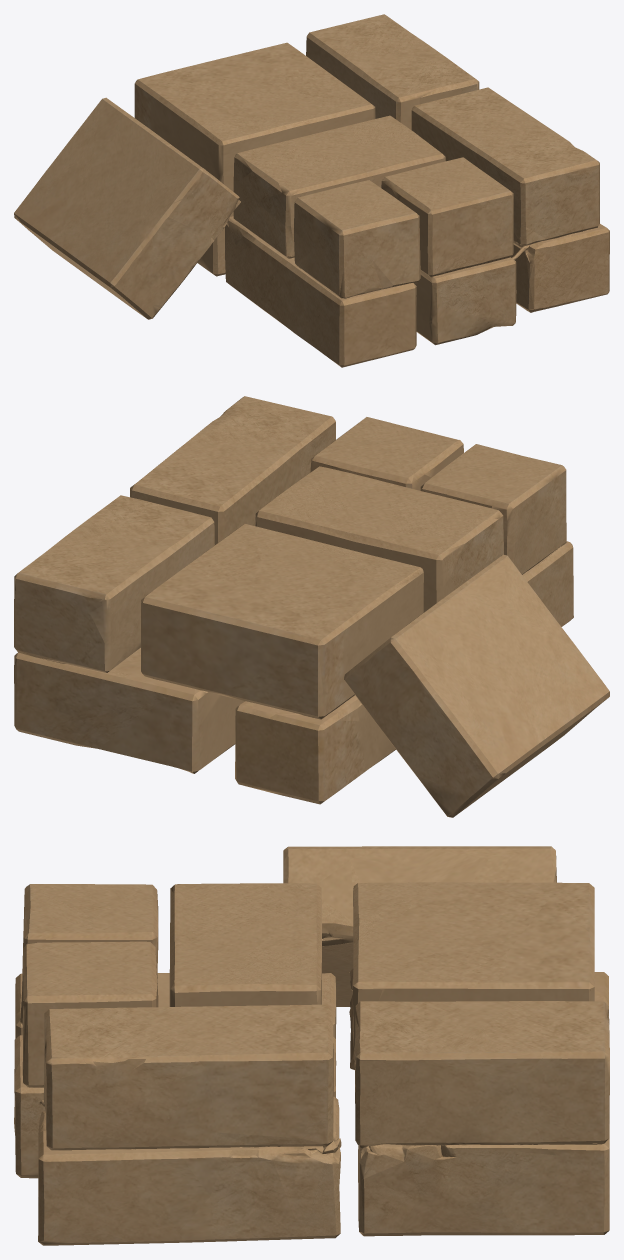
Rendered from cover_blocks.glb.
3 renders of one model, top to bottom at view 1: azimuth 30°, elevation 25°; view 2: azimuth 150°, elevation 25°; view 3: azimuth 270°, elevation 25°, orthographic. The views are drawn at different scales.
Bounding box in the file's own units: 1.9 × 0.6214 × 1.76.
Materials: 1 (1 with a texture image).
